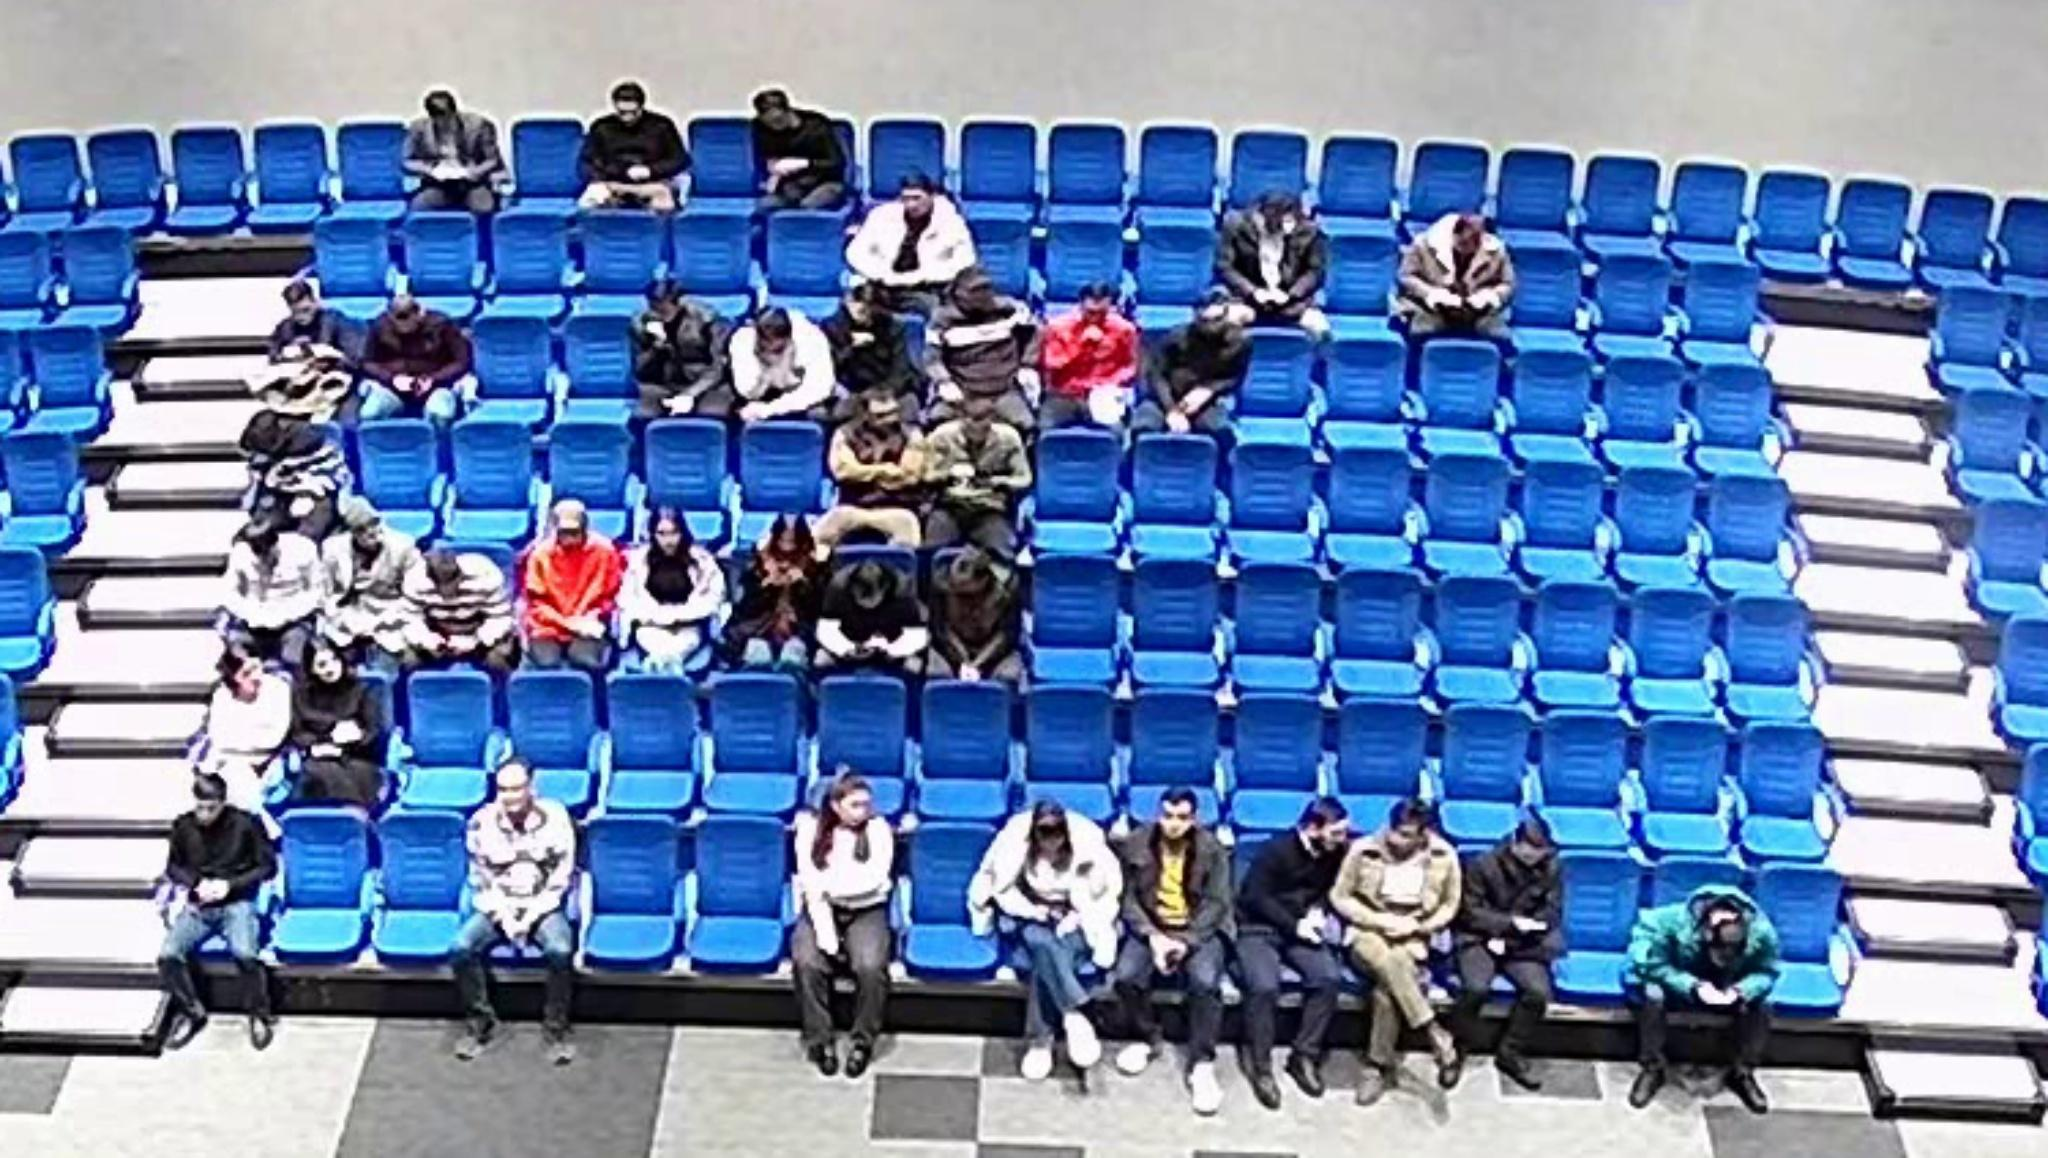empty: (678, 813, 791, 982), (363, 809, 475, 969), (900, 820, 1010, 981), (1743, 860, 1860, 1010), (270, 805, 376, 971), (578, 813, 686, 971), (1537, 847, 1646, 1002), (696, 670, 803, 813), (599, 668, 703, 808), (1225, 560, 1328, 695), (1224, 691, 1328, 820), (505, 664, 599, 801), (398, 666, 499, 792), (817, 670, 916, 796), (1013, 680, 1117, 799), (1436, 699, 1536, 822), (443, 409, 537, 539), (352, 418, 444, 549), (916, 677, 1016, 796), (1941, 381, 2037, 505), (1824, 176, 1923, 295), (1333, 694, 1431, 815), (1616, 581, 1719, 694), (1127, 684, 1225, 801), (1317, 331, 1409, 454), (1927, 277, 2018, 402), (1630, 713, 1733, 825), (1730, 718, 1830, 829), (1222, 429, 1321, 542), (1319, 435, 1418, 547), (1533, 705, 1632, 817), (1326, 559, 1423, 673), (1964, 494, 2048, 625), (1515, 452, 1611, 567), (1129, 549, 1225, 664), (1429, 567, 1528, 678), (1027, 552, 1124, 664), (1419, 440, 1515, 553), (1528, 575, 1625, 684), (1698, 466, 1795, 574), (1030, 422, 1124, 532), (1746, 165, 1837, 277), (1713, 585, 1810, 691), (1605, 462, 1702, 567), (544, 414, 637, 523), (75, 127, 167, 236), (249, 120, 336, 236), (18, 321, 113, 428), (1494, 235, 1584, 346), (1907, 184, 1996, 297), (1595, 348, 1689, 453), (46, 215, 141, 319), (641, 416, 733, 523), (328, 114, 411, 231), (1127, 428, 1218, 533), (737, 416, 827, 523), (1581, 246, 1672, 350), (1672, 246, 1761, 353), (0, 426, 83, 539), (167, 122, 246, 239), (1231, 325, 1322, 425), (1505, 341, 1595, 442), (1685, 356, 1775, 456), (1131, 219, 1221, 319), (1318, 227, 1404, 331), (1041, 217, 1129, 314), (762, 207, 851, 304), (1416, 336, 1504, 433), (311, 208, 397, 307), (466, 310, 554, 404), (487, 208, 575, 301), (1577, 152, 1665, 245), (558, 305, 646, 400), (395, 208, 481, 304), (1667, 158, 1753, 253), (670, 205, 758, 297), (575, 207, 671, 291), (959, 200, 1041, 298), (1315, 134, 1402, 224), (1492, 146, 1578, 238), (1405, 138, 1492, 227), (8, 131, 89, 227), (958, 120, 1041, 211), (1135, 124, 1220, 212), (1045, 121, 1128, 211), (509, 115, 589, 207), (0, 545, 58, 671), (1990, 612, 2048, 739), (865, 117, 949, 203), (0, 225, 68, 329), (1227, 128, 1312, 210), (685, 113, 764, 200), (1997, 191, 2048, 290)
